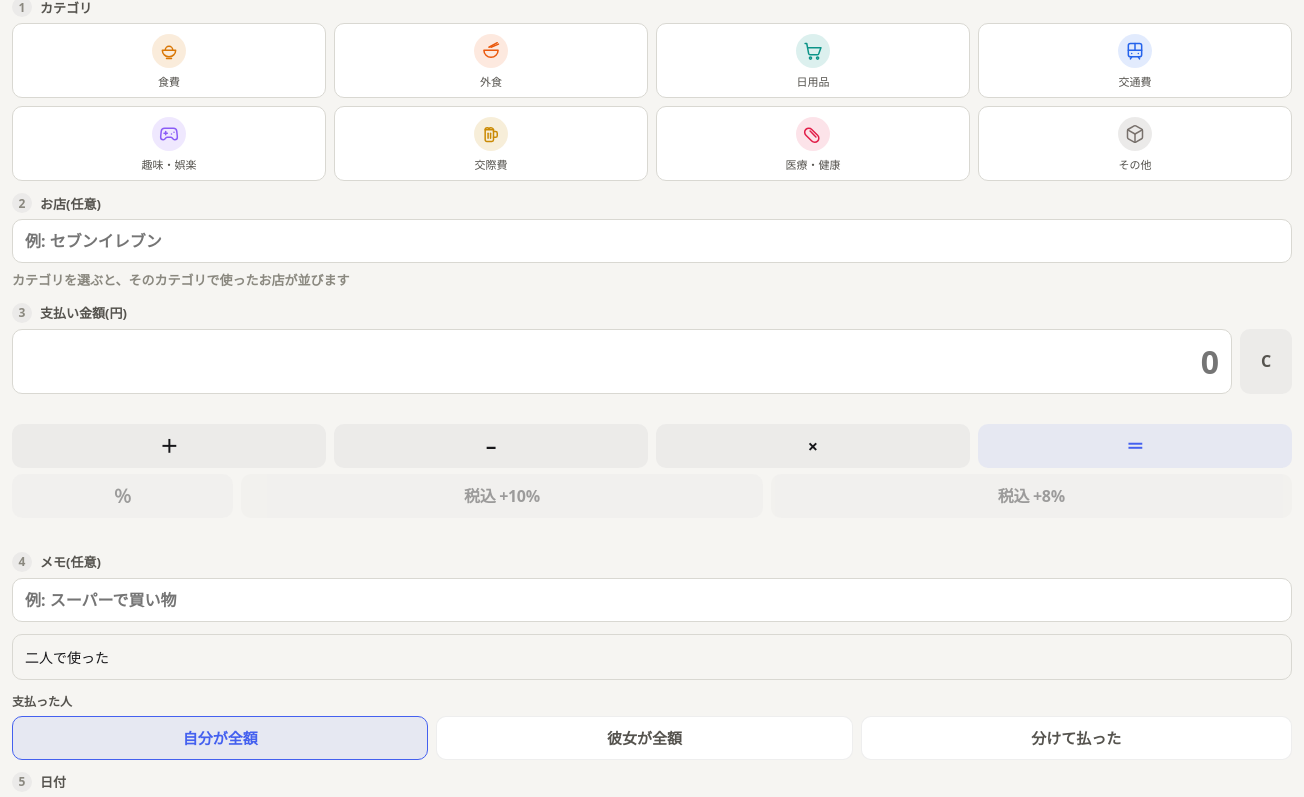
Test: おごり・値引き › もう一度押すと外れ、外したら 0円 では保存できなくなる
The image size is (1304, 797).
Click the button "食費": (169, 60) 12,23 -> 326,98
(page scrolled)
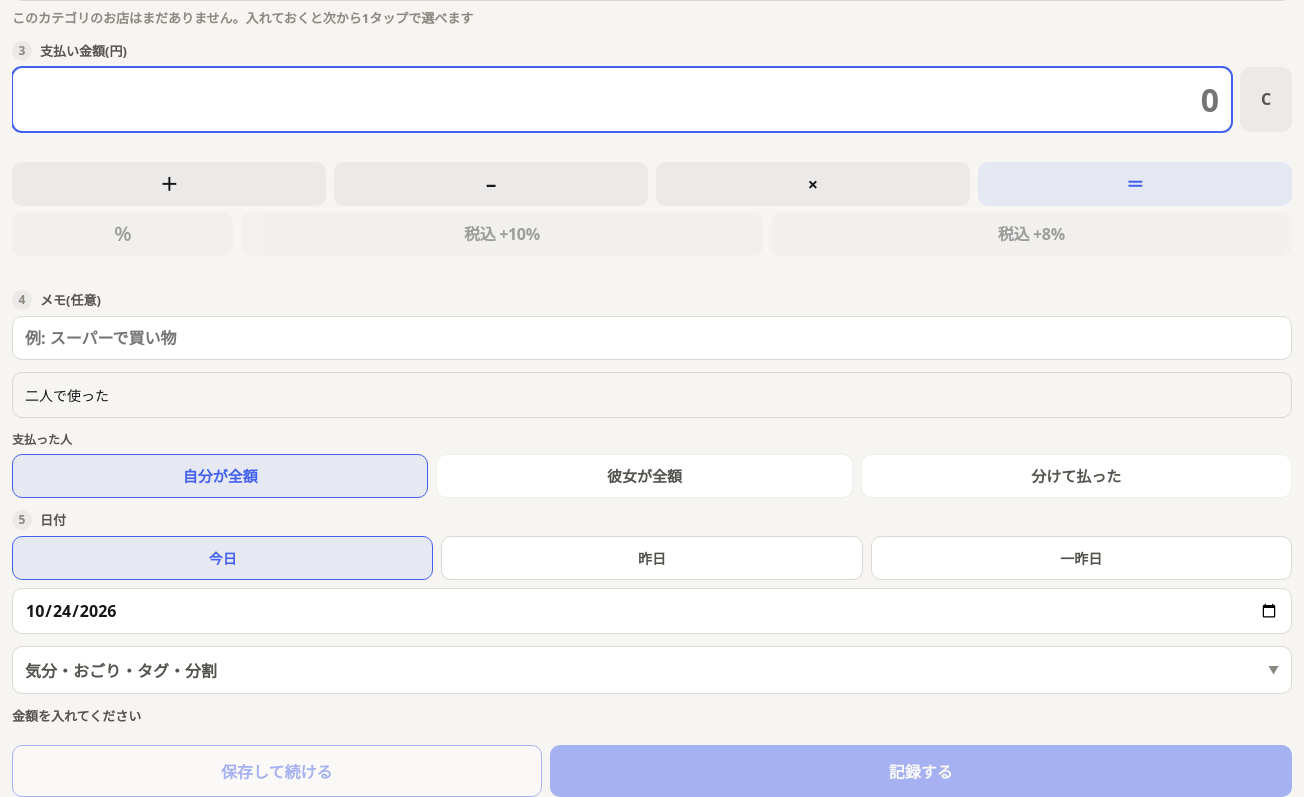
Click the button "気分・おごり・タグ・分割 ▼": (121, 670) 12,646 -> 1292,694
(page scrolled)
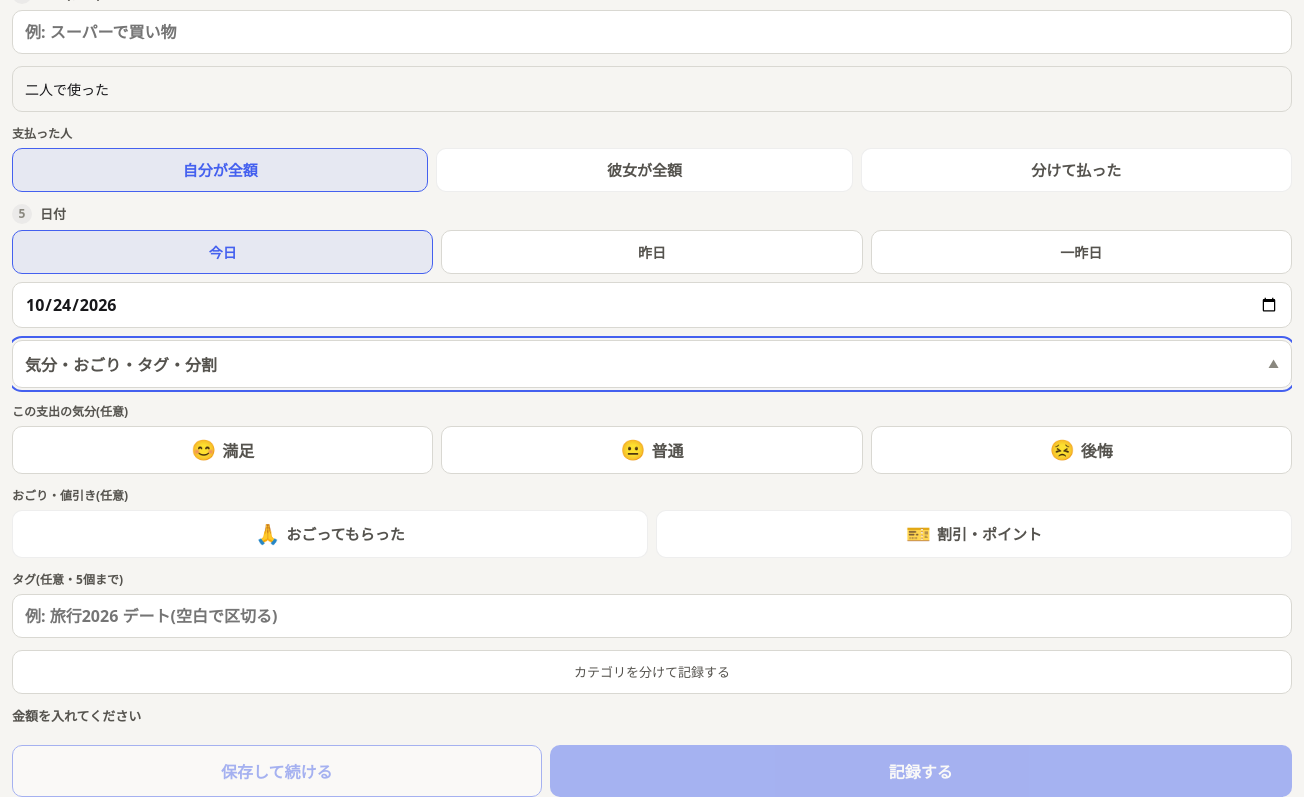
Click the button "🙏 おごってもらった": (330, 534) 12,510 -> 648,558
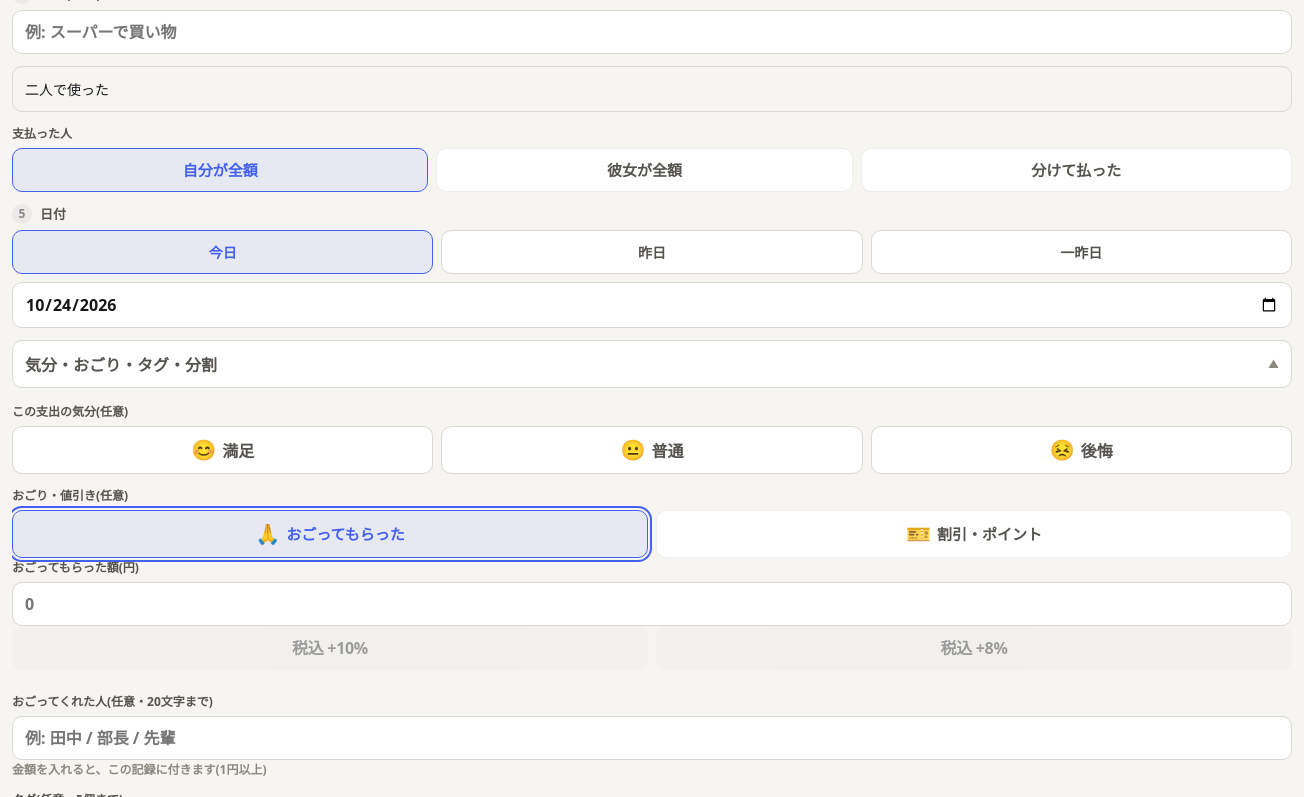
In the field named "おごってもらった額(円)": (652, 604) 12,582 -> 1292,626, type "3200"
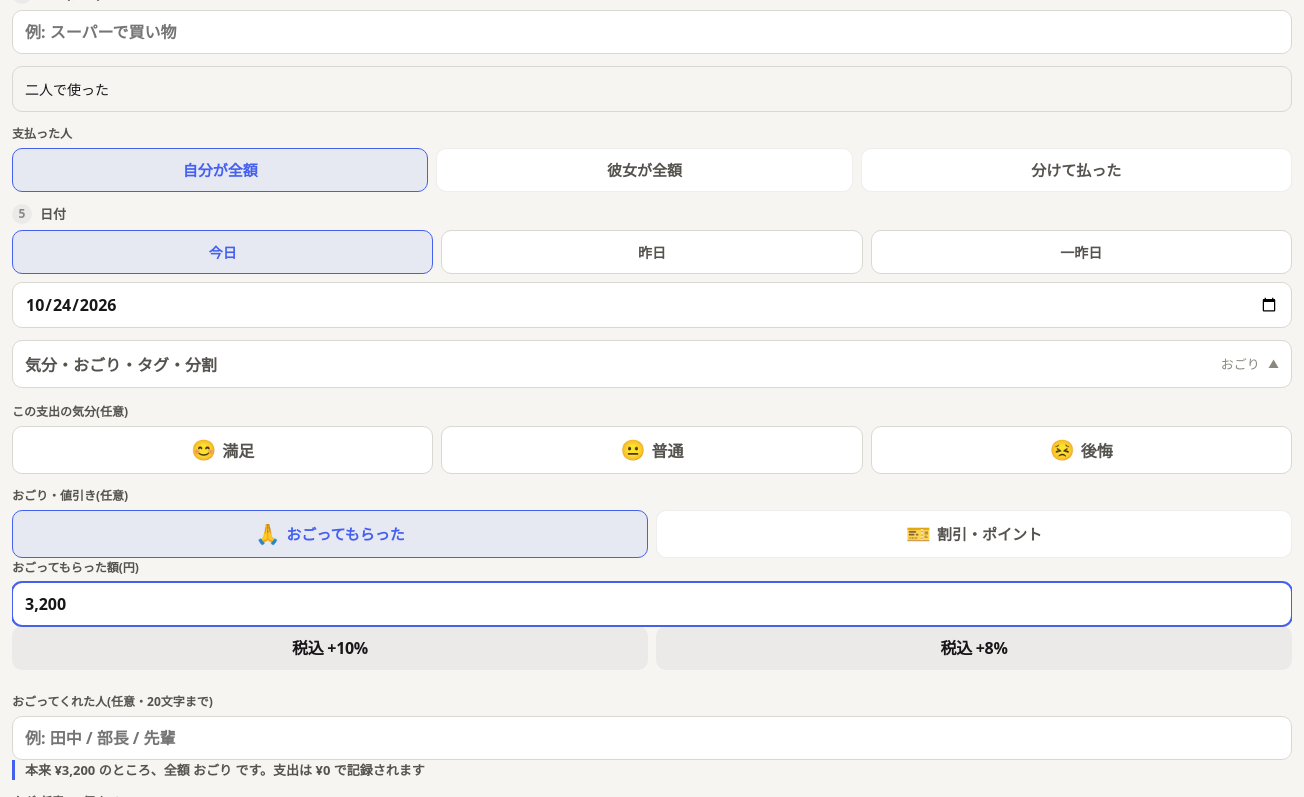
Click the button "🙏 おごってもらった": (330, 534) 12,510 -> 648,558
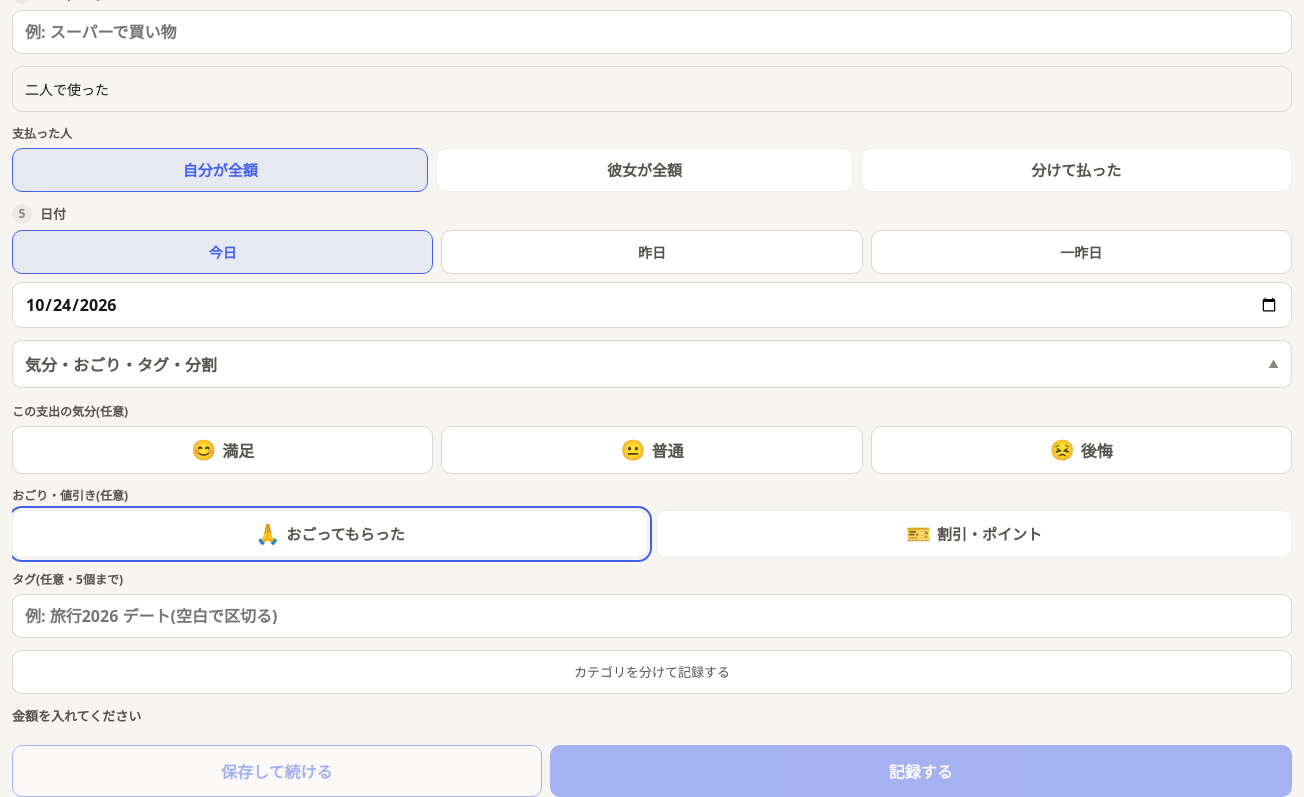
Now the button "記録する" is disabled, box 550,744 -> 1292,796
